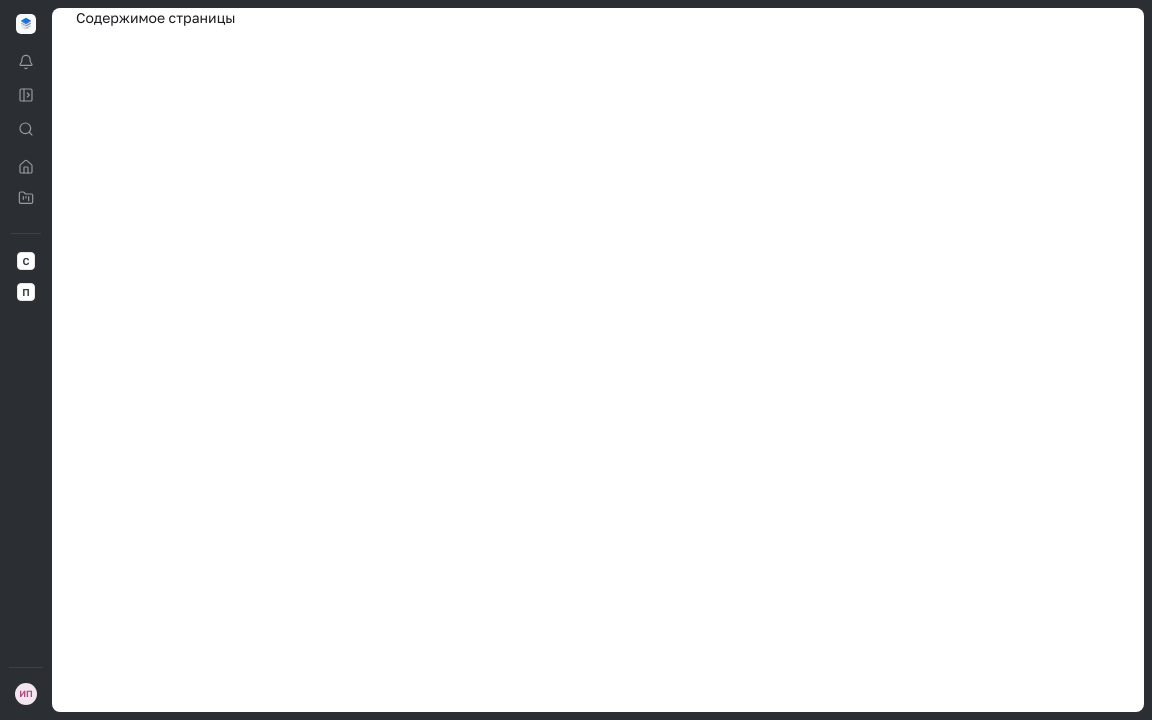
app shell › collapses to icons, remembers it, and expands again; '[' does the same unless typing
Earlier steps of the test are not shown.
Expected: the text "Ромашка" is not shown
Click the button named "Развернуть меню": (26, 95) [11,80,41,110]
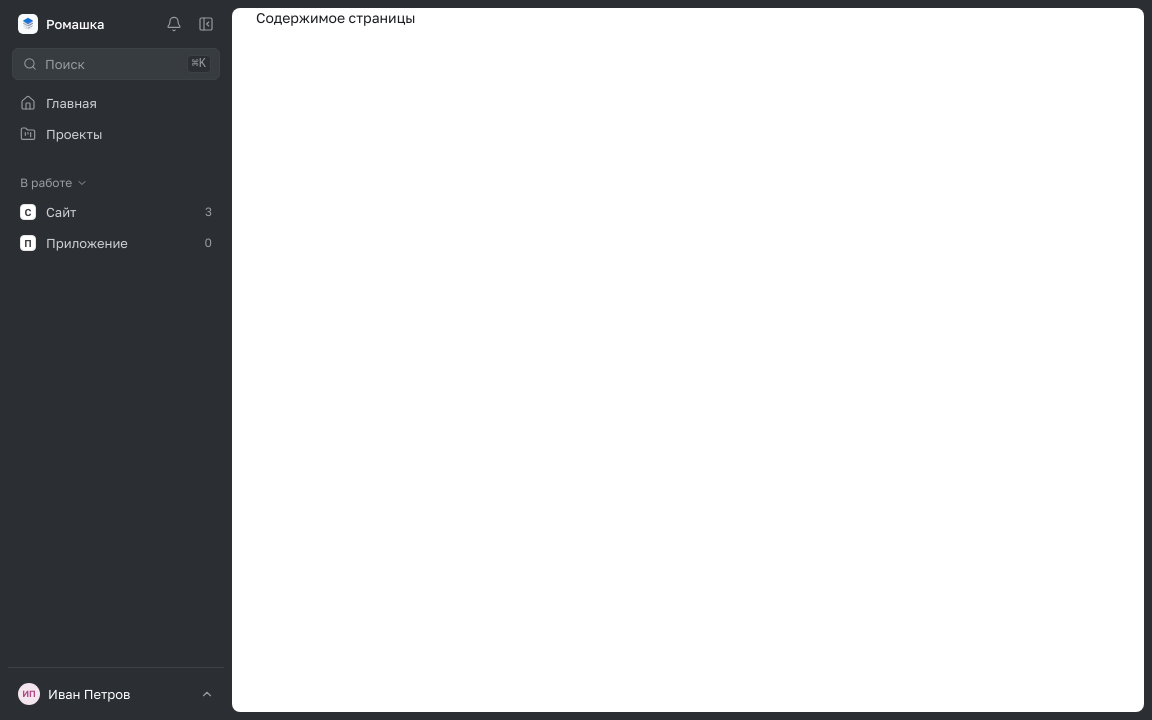
Expected: the text "Ромашка" is shown, [46,15,104,33]
Type keys "[ ["
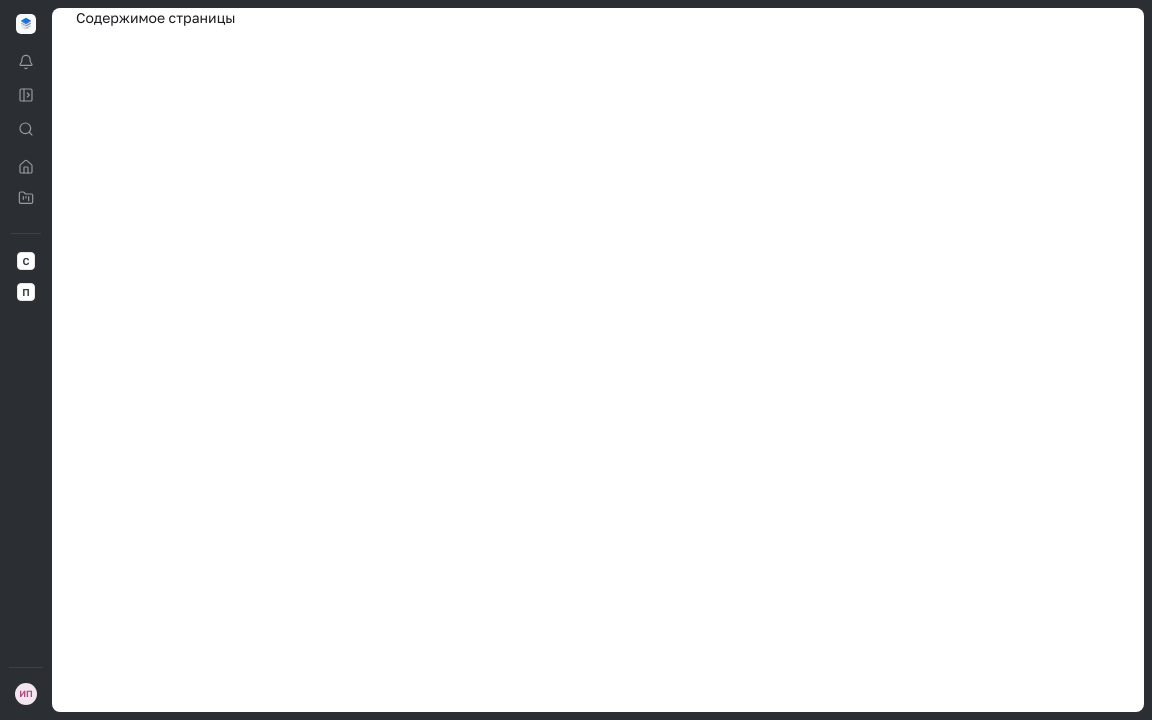
Expected: the text "Ромашка" is gone
Click the button named "Поиск": (26, 129) [11,114,41,144]
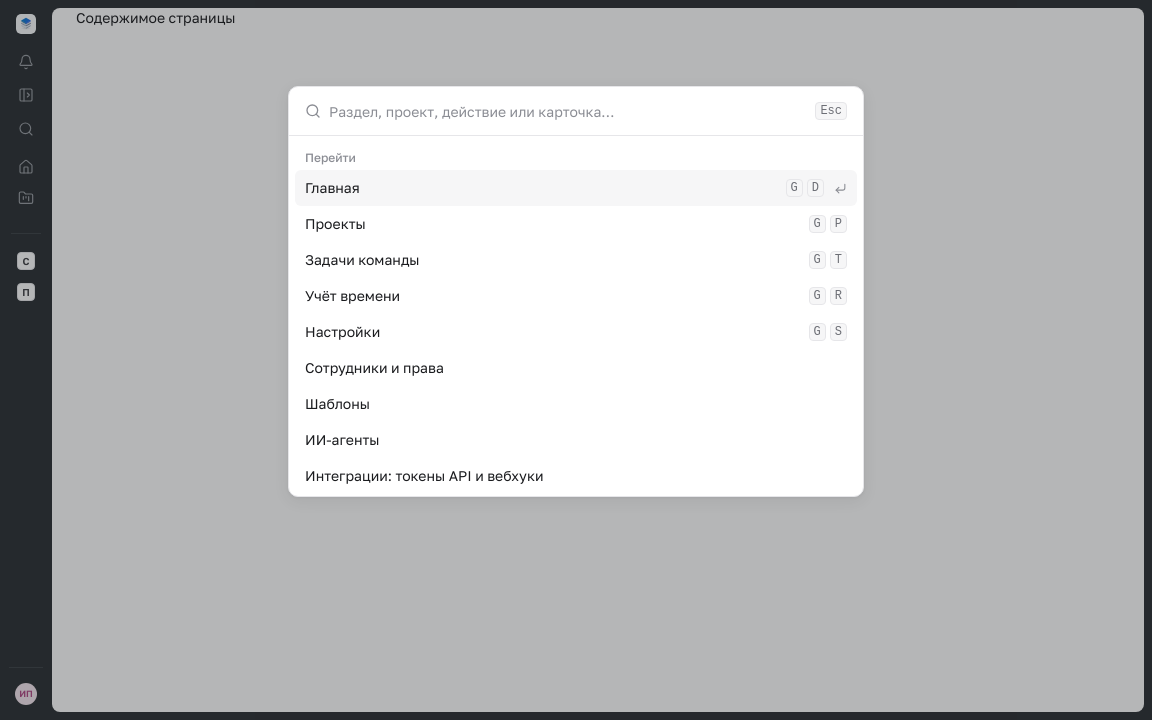
In the dropdown named "Команда или поиск": (568, 111) [329,87,807,135], type "[ ["
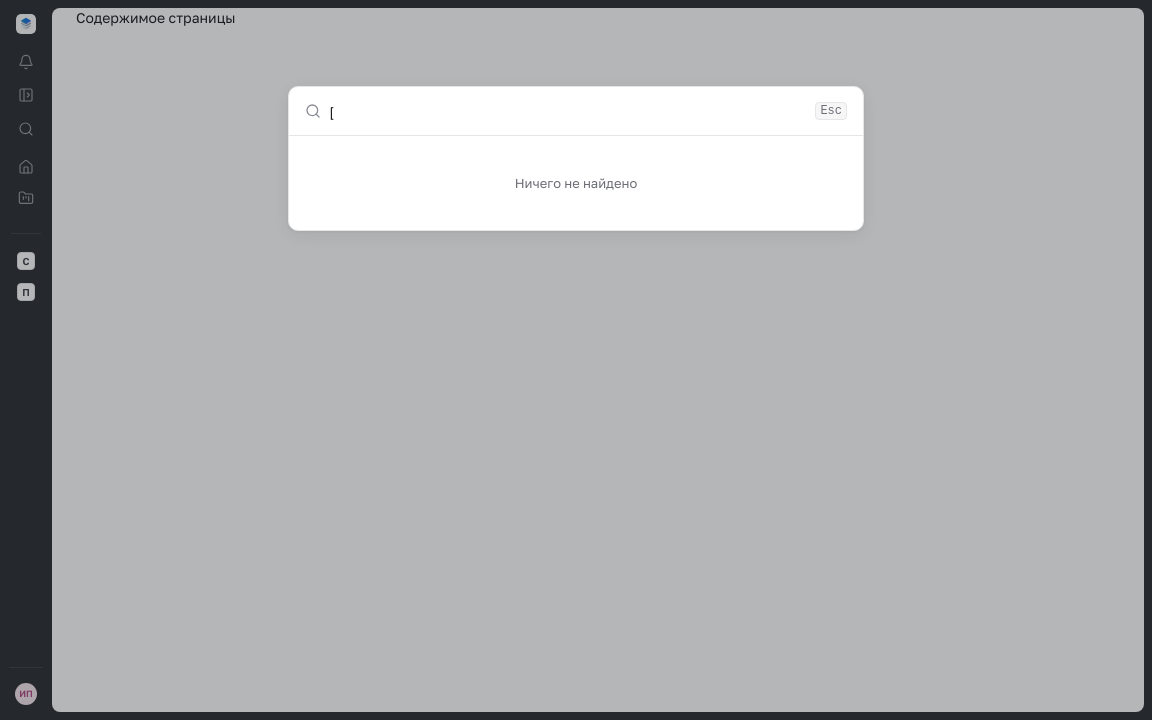
Expected: the text "Ромашка" is not shown
Press Escape
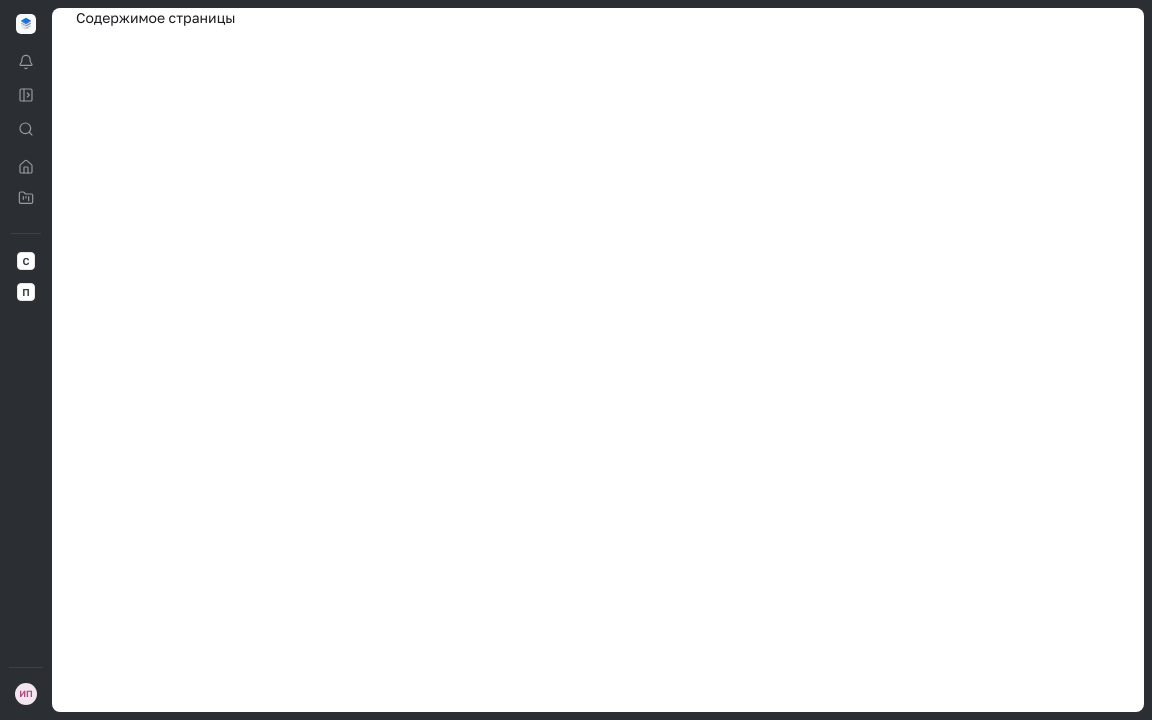
Press [
Expected: the text "Ромашка" is not shown
Type keys "[ ["
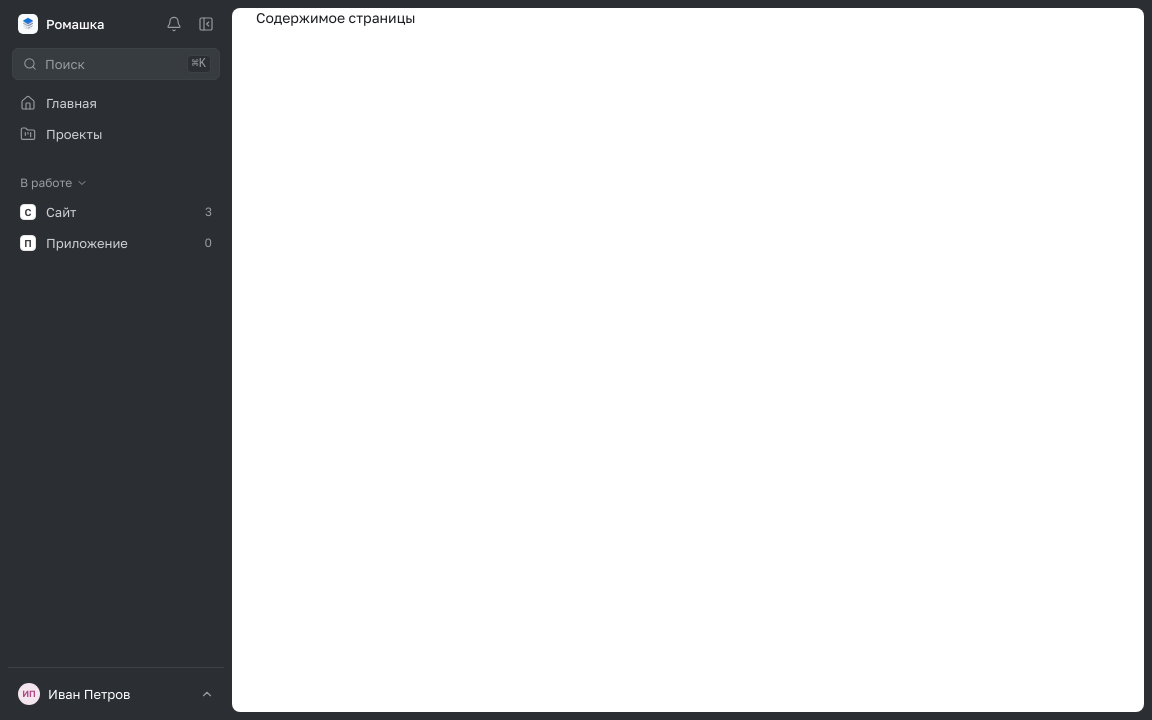
Expected: the text "Ромашка" is shown, [46,15,104,33]
